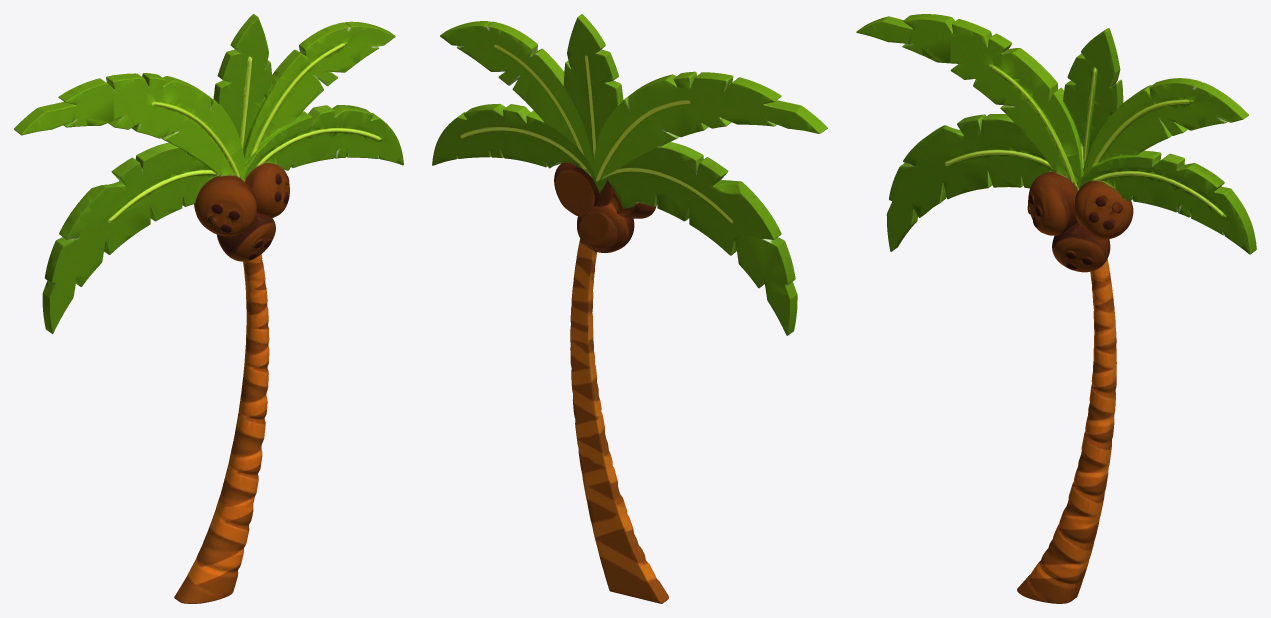
The model's file is coco.glb.
The picture shows the model from 3 angles, left to right: view 1: azimuth 30°, elevation 25°; view 2: azimuth 150°, elevation 25°; view 3: azimuth 330°, elevation 25°; orthographic projection. The views are drawn at different scales.
Bounding box in the file's own units: 1.36 × 1.9 × 0.1694.
Materials: 1 (1 with a texture image).
